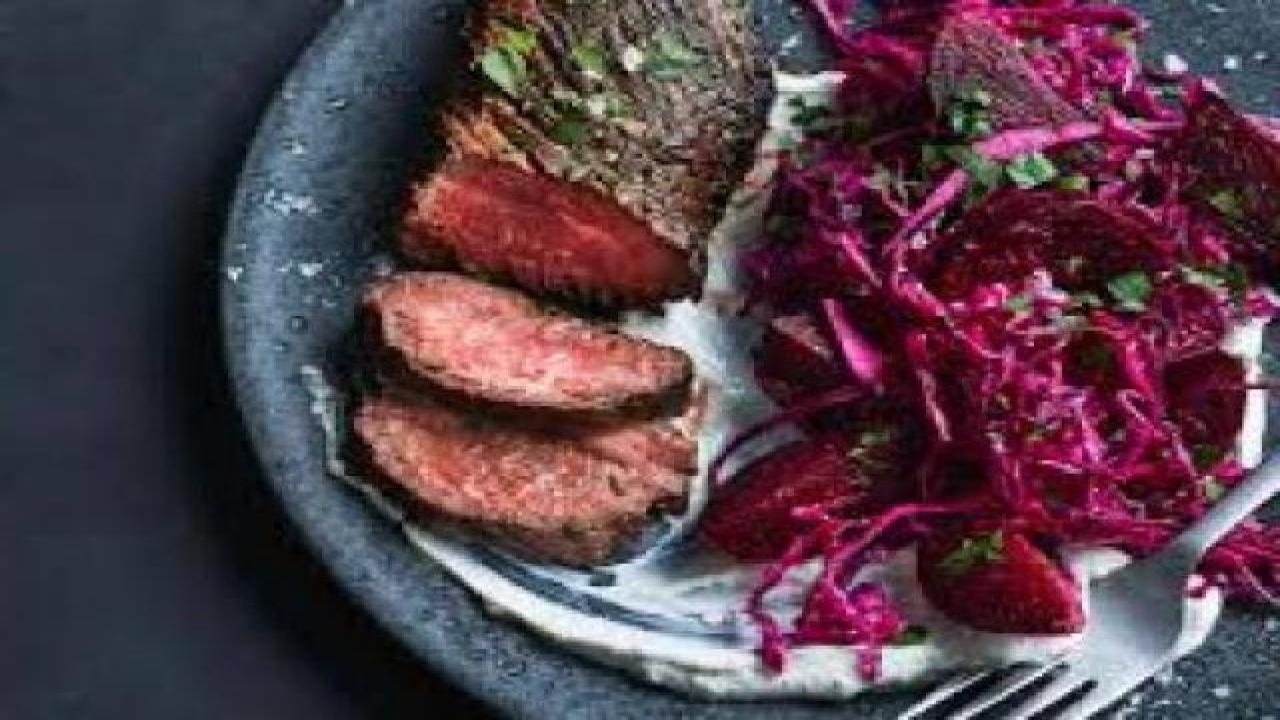Carne: (333, 358, 708, 545), (347, 264, 723, 408), (403, 139, 685, 302)
